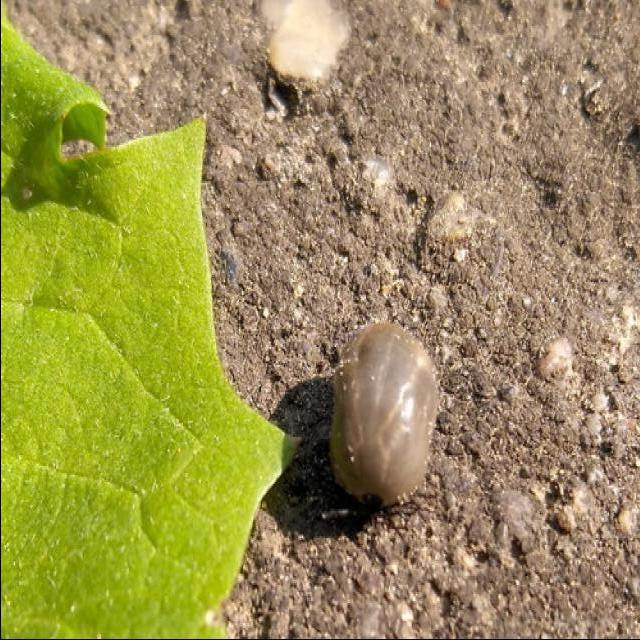Ixodes Ricinus-F-Fed: (328, 325, 439, 541)
